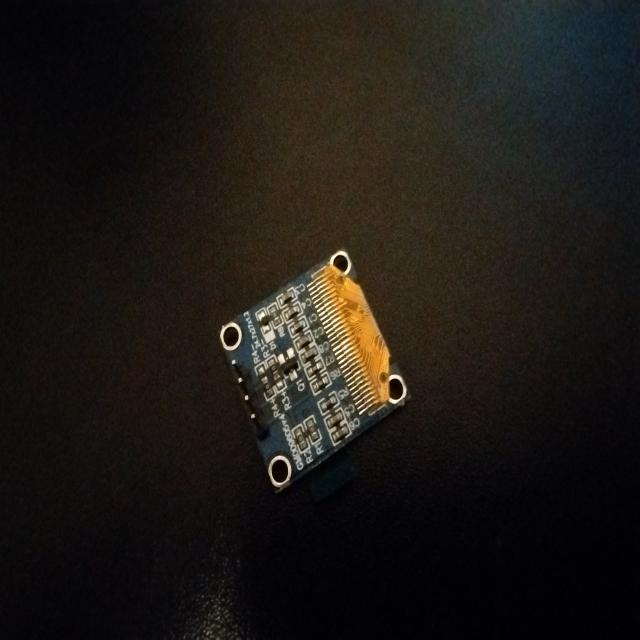oled: (219, 229, 430, 492)
